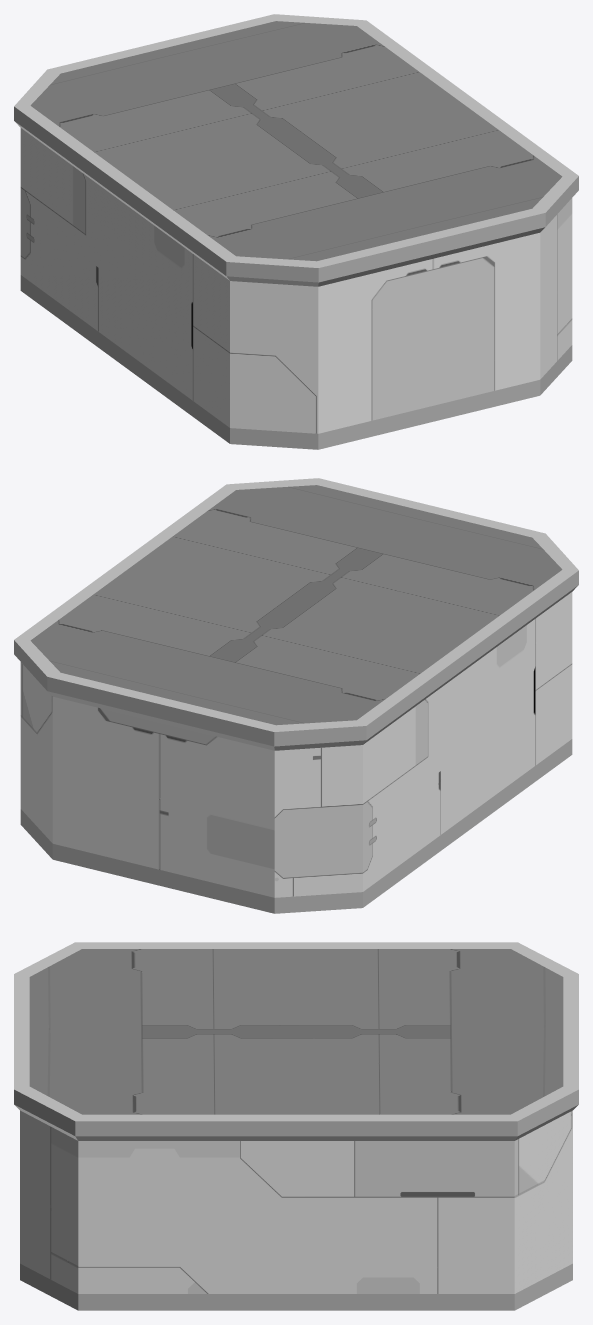
File: SM_Platform_3x4_1.fbx
The picture shows the model from 3 angles, top to bottom: view 1: azimuth 30°, elevation 25°; view 2: azimuth 150°, elevation 25°; view 3: azimuth 270°, elevation 25°; orthographic projection. The views are drawn at different scales.
Parts seen in each view (by area): view 1: SM_Platform_3x4_1; view 2: SM_Platform_3x4_1; view 3: SM_Platform_3x4_1.
Part boxes in pixels (bbox=[...]): SM_Platform_3x4_1: bbox=[14, 14, 578, 449]; SM_Platform_3x4_1: bbox=[14, 478, 578, 913]; SM_Platform_3x4_1: bbox=[14, 942, 578, 1310].
Bounding box in the file's own units: 300 × 150 × 400.
